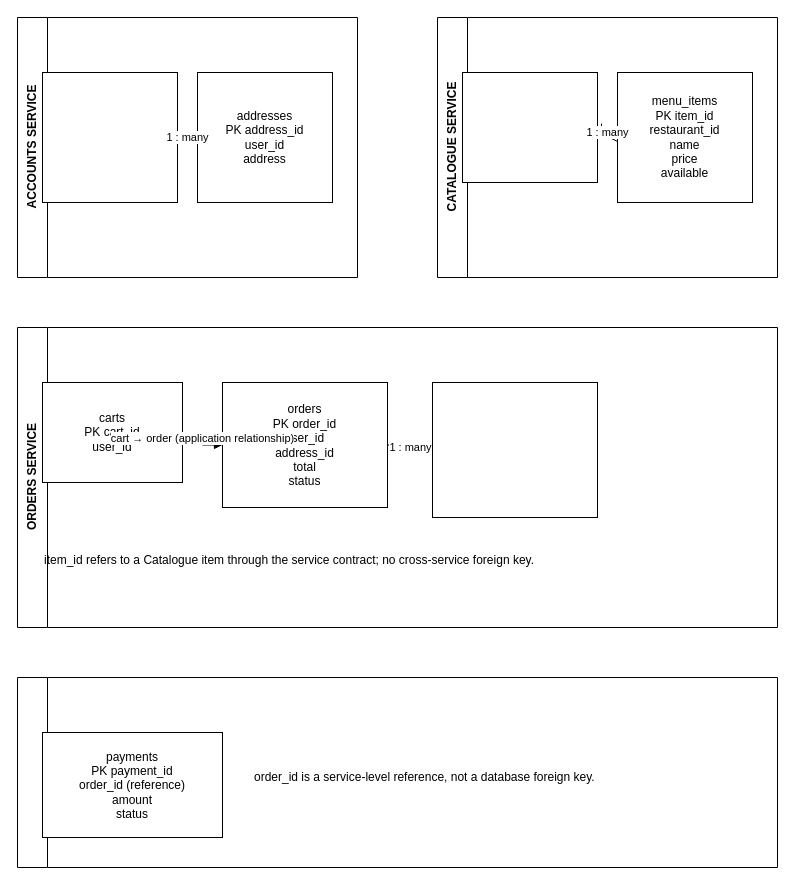
The diagram is 795 pixels wide and 885 high, and some of its shapes have lost their labels. Each missing label, with the box of its shape:
order_items PK order_item_id order_id item_id quantity price: (432, 382, 598, 518)
PAYMENTS SERVICE: (16, 676, 778, 868)
restaurants PK restaurant_id name: (462, 72, 598, 182)
users PK user_id name email password: (42, 72, 178, 202)
